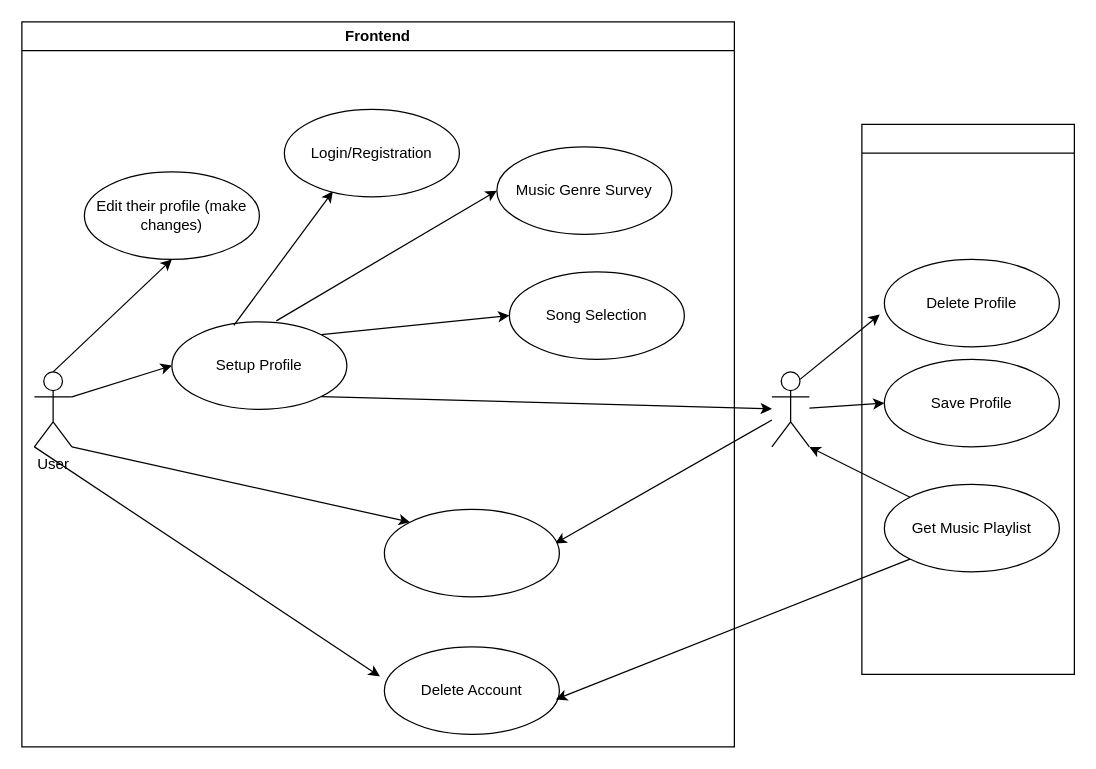
Some shapes in this 1096 by 769 pixel diagram are drawn without their labels. The shapes that lost their labels are listed below. From the top down, each one's centre as x and y in pixels, then its label:
the point at 790,409: Web service
the point at 967,398: Backend
the point at 471,552: View Personalized Music Playlist
